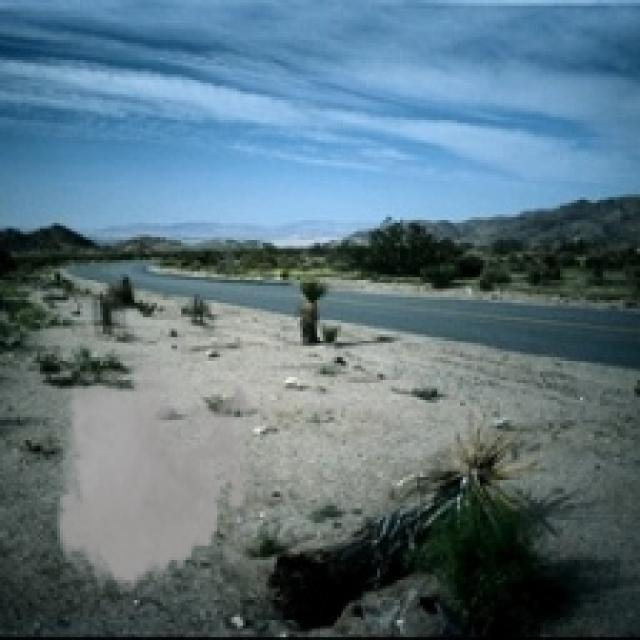smoke: (49, 340, 260, 603)
